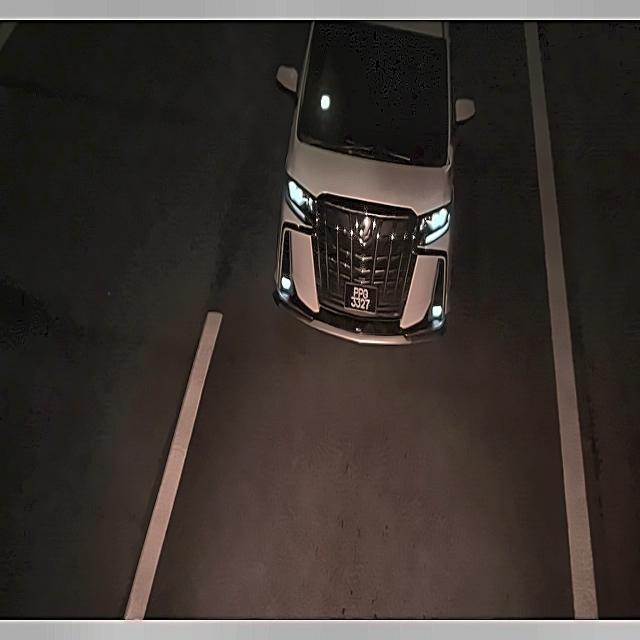car: (340, 281, 380, 318)
